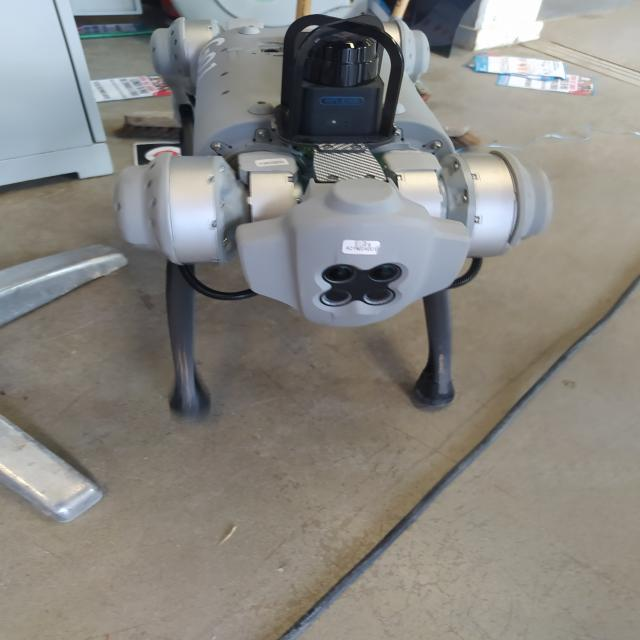unitree-go1-robot: (109, 0, 565, 448)
